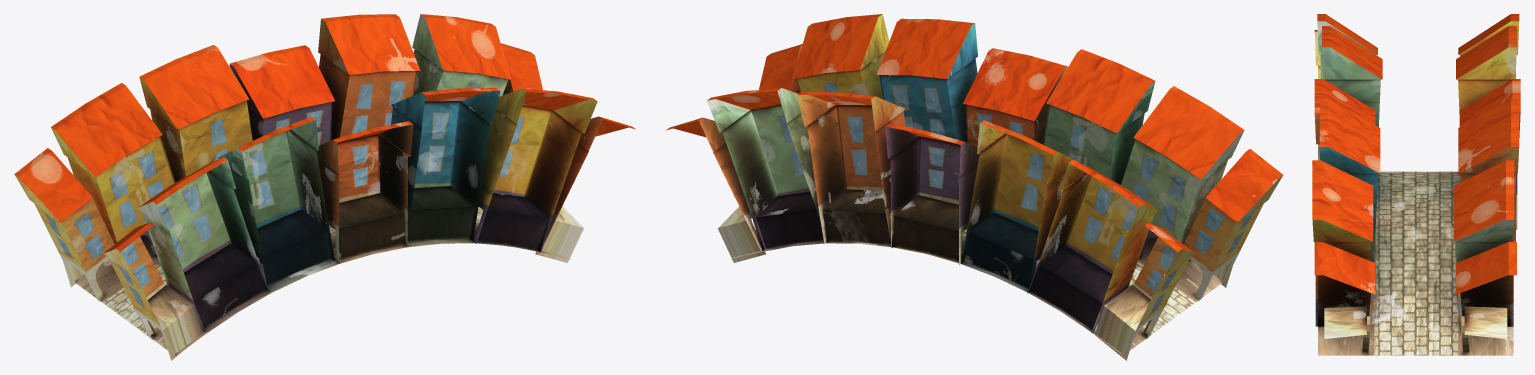
File: modulo_centro_B.FBX
3 renders of one model, left to right at view 1: azimuth 30°, elevation 25°; view 2: azimuth 150°, elevation 25°; view 3: azimuth 270°, elevation 25°, orthographic. The views are drawn at different scales.
Visible parts, largest first — view 1: moduli_centro_B_00, moduli_centro_B_05, moduli_centro_B_03, moduli_centro_B_04, moduli_centro_B_02, moduli_centro_B_01; view 2: moduli_centro_B_00, moduli_centro_B_05, moduli_centro_B_03, moduli_centro_B_04, moduli_centro_B_01, moduli_centro_B_02; view 3: moduli_centro_B_00, moduli_centro_B_02, moduli_centro_B_01, moduli_centro_B_05, moduli_centro_B_03, moduli_centro_B_04.
Part boxes in pixels (box(x1,y1,x2,y2)): moduli_centro_B_00: box(318, 14, 597, 252); moduli_centro_B_05: box(139, 45, 413, 285); moduli_centro_B_03: box(51, 83, 269, 331); moduli_centro_B_04: box(14, 148, 202, 360); moduli_centro_B_02: box(74, 207, 570, 355); moduli_centro_B_01: box(500, 43, 635, 262); moduli_centro_B_00: box(707, 14, 977, 250); moduli_centro_B_05: box(885, 48, 1155, 288); moduli_centro_B_03: box(1027, 86, 1244, 333); moduli_centro_B_04: box(1095, 149, 1283, 360); moduli_centro_B_01: box(666, 44, 802, 262); moduli_centro_B_02: box(731, 213, 1222, 355); moduli_centro_B_00: box(1312, 99, 1519, 326); moduli_centro_B_02: box(1318, 171, 1513, 355); moduli_centro_B_01: box(1314, 242, 1516, 354); moduli_centro_B_05: box(1314, 26, 1520, 229); moduli_centro_B_03: box(1317, 14, 1519, 79); moduli_centro_B_04: box(1314, 30, 1320, 78).
Size of the model in its own units: 261 by 99.55 by 95.71.
